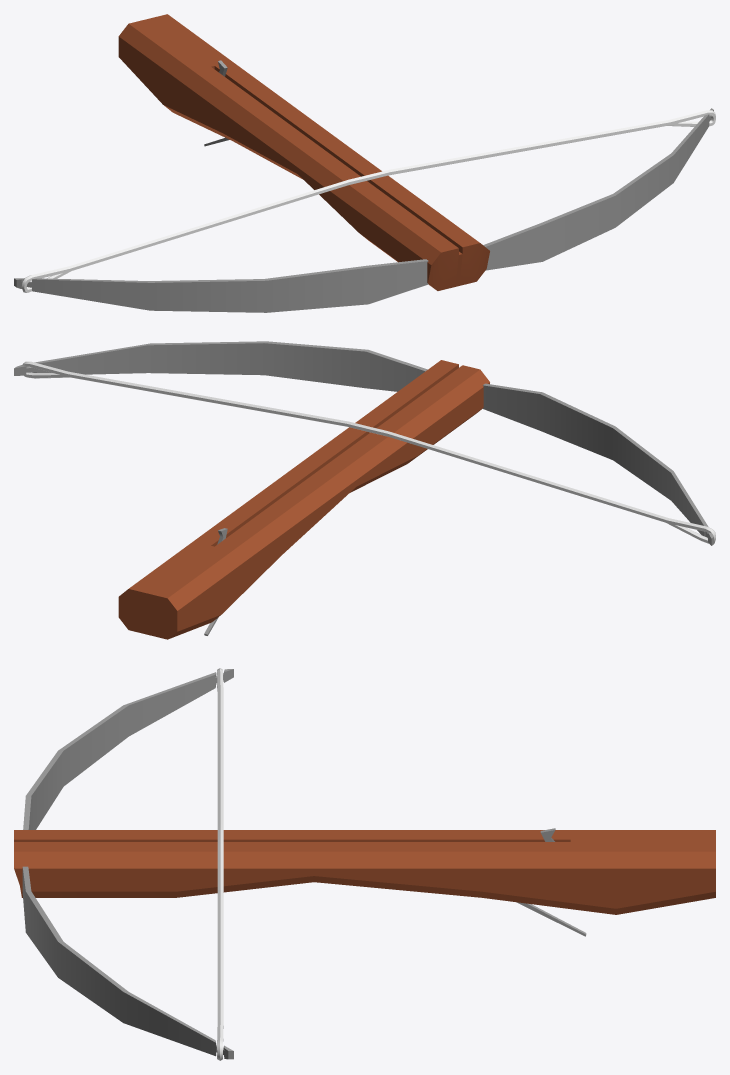
File: Crossbow.fbx
3 views of the same model, one above another, from view 1: azimuth 30°, elevation 25°; view 2: azimuth 150°, elevation 25°; view 3: azimuth 270°, elevation 25° (orthographic). The views are drawn at different scales.
Parts seen in each view (by area): view 1: pCube8; view 2: pCube8; view 3: pCube8.
Part boxes in pixels (x1,y1,x2,y2): pCube8: (14,14,715,312); pCube8: (14,341,715,639); pCube8: (14,668,715,1060).
Size of the model in its own units: 12.62 by 1.65 by 9.8.
